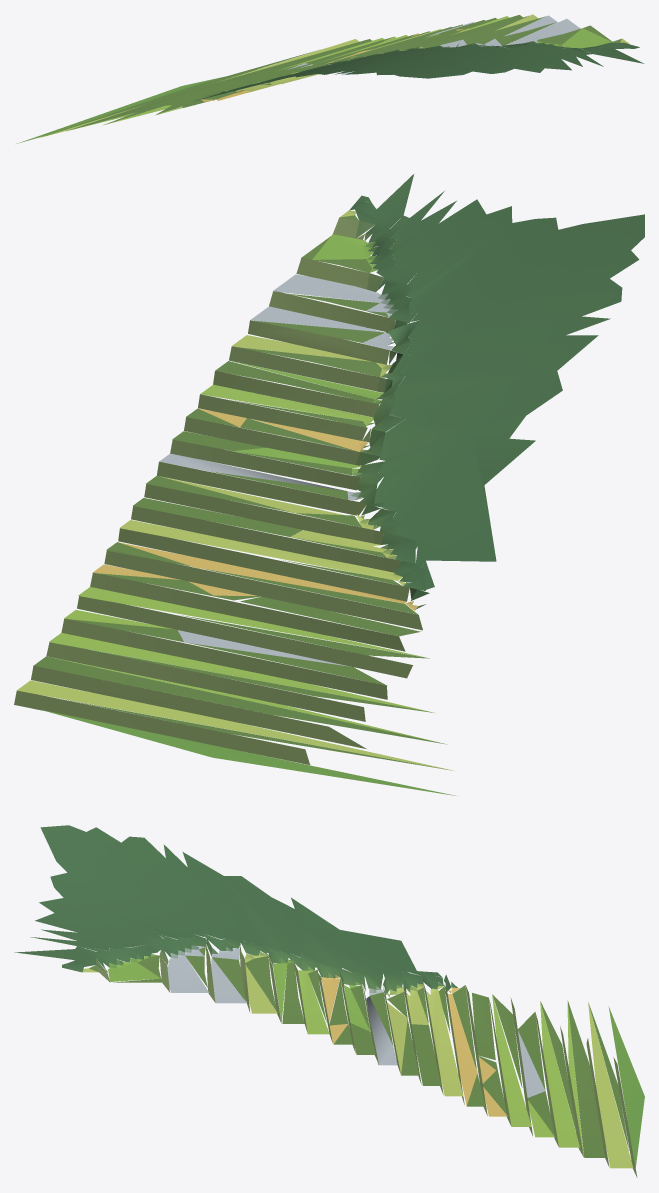
Rendered from payo_land_xm5_y9_lod1.glb.
3 views of the same model, one above another, from view 1: azimuth 30°, elevation 25°; view 2: azimuth 150°, elevation 25°; view 3: azimuth 270°, elevation 25° (orthographic). The views are drawn at different scales.
Parts seen in each view (by area): view 1: payo_land_xm5_y9; view 2: payo_land_xm5_y9; view 3: payo_land_xm5_y9.
Part boxes in pixels (bbox=[...]): payo_land_xm5_y9: bbox=[16, 14, 644, 143]; payo_land_xm5_y9: bbox=[14, 174, 644, 796]; payo_land_xm5_y9: bbox=[14, 825, 644, 1177].
Size of the model in its own units: 180 by 117 by 277.
